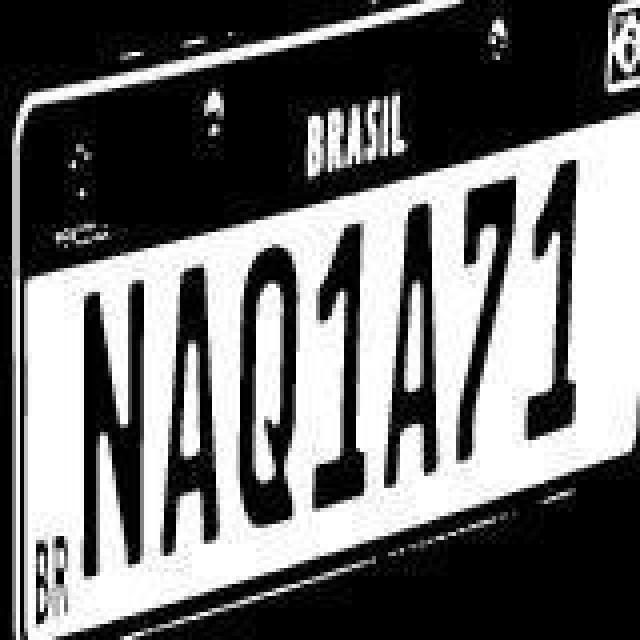1: (520, 162, 592, 446), (312, 212, 376, 508)
7: (452, 184, 524, 472)
A: (156, 254, 228, 554), (376, 198, 440, 482)
N: (76, 276, 148, 580)
Q: (234, 238, 302, 538)
